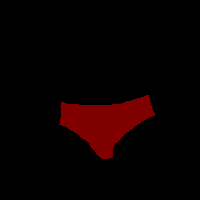mutande: (59, 94, 155, 159)
